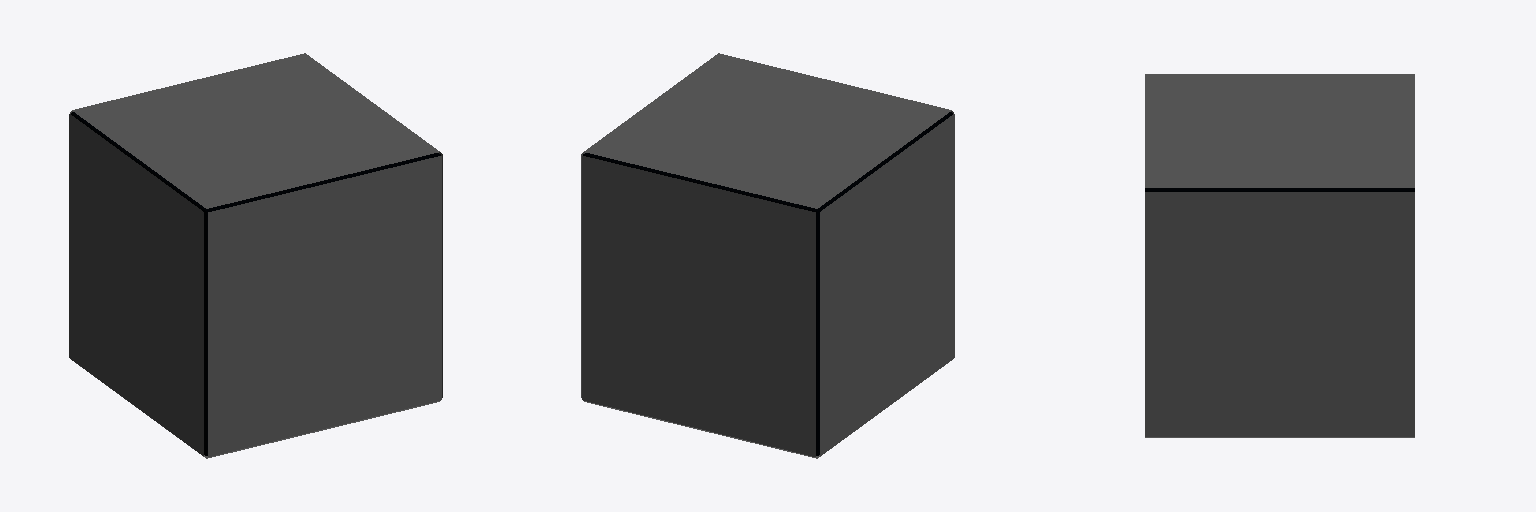
File: fourthofjuly.obj
3 views of the same model, side by side, from view 1: azimuth 30°, elevation 25°; view 2: azimuth 150°, elevation 25°; view 3: azimuth 270°, elevation 25° (orthographic).
Visible parts, largest first — view 1: Fourthofjuly5, Fourthofjuly4, Fourthofjuly7, Fourthofjuly1; view 2: Fourthofjuly3, Fourthofjuly4, Fourthofjuly7, Fourthofjuly1; view 3: Fourthofjuly2, Fourthofjuly7, Fourthofjuly1.
Part boxes in pixels (left/top/right/bottom): Fourthofjuly5: left=208, top=156, right=441, bottom=456; Fourthofjuly4: left=69, top=114, right=203, bottom=455; Fourthofjuly7: left=72, top=53, right=439, bottom=208; Fourthofjuly1: left=71, top=112, right=440, bottom=455; Fourthofjuly3: left=582, top=156, right=815, bottom=456; Fourthofjuly4: left=820, top=114, right=954, bottom=455; Fourthofjuly7: left=584, top=53, right=951, bottom=208; Fourthofjuly1: left=583, top=112, right=952, bottom=455; Fourthofjuly2: left=1145, top=192, right=1414, bottom=436; Fourthofjuly7: left=1145, top=74, right=1414, bottom=187; Fourthofjuly1: left=1145, top=188, right=1414, bottom=191.
Size of the model in its own units: 2.04 by 2.04 by 2.04.